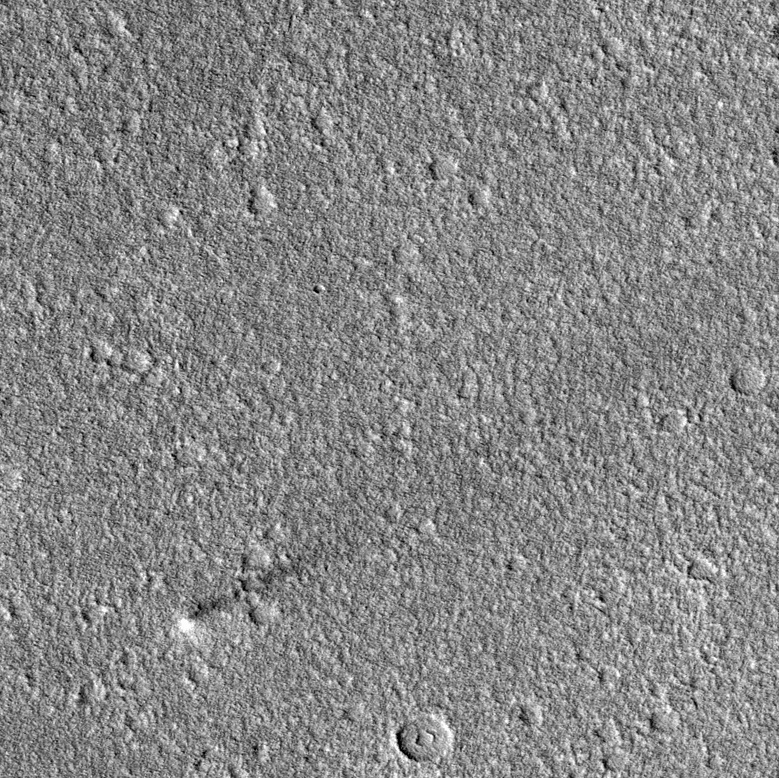dust_devil: (174, 558, 305, 638)
